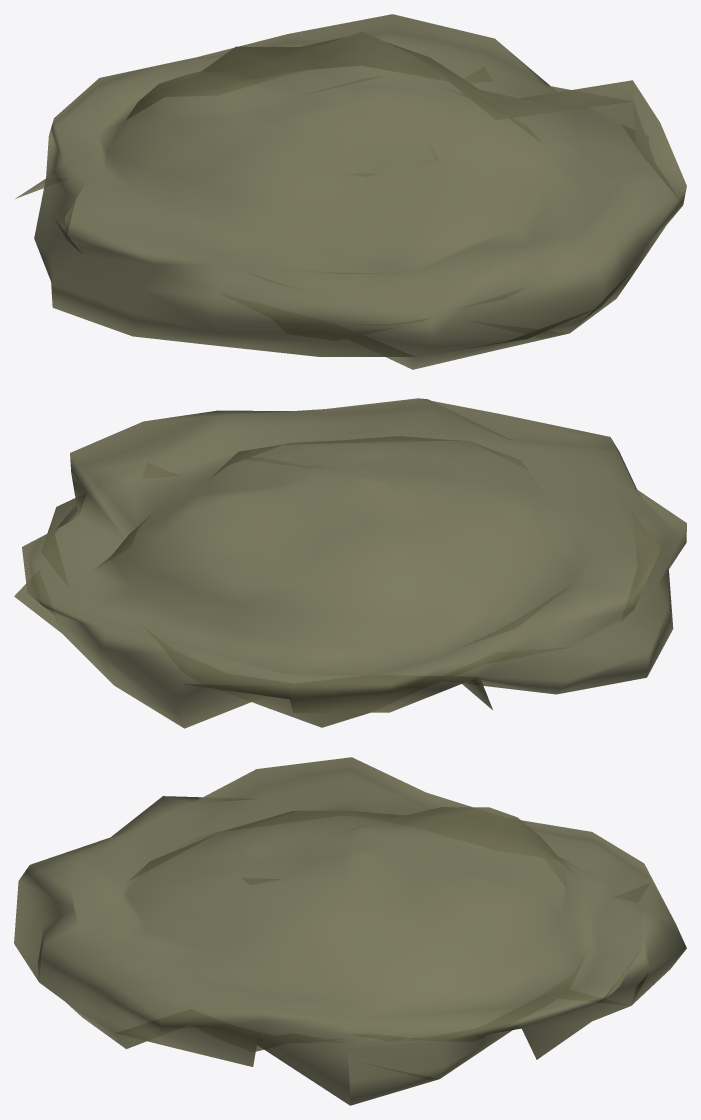
Rendered from Main_body.fbx.
3 views of the same model, one above another, from view 1: azimuth 30°, elevation 25°; view 2: azimuth 150°, elevation 25°; view 3: azimuth 270°, elevation 25° (orthographic). The views are drawn at different scales.
Visible parts, largest first — view 1: Main_Body; view 2: Main_Body; view 3: Main_Body.
Part boxes in pixels (bbox=[...]): Main_Body: bbox=[15, 14, 686, 369]; Main_Body: bbox=[14, 398, 686, 728]; Main_Body: bbox=[14, 757, 686, 1105].
Size of the model in its own units: 21.93 by 6.78 by 22.69.
